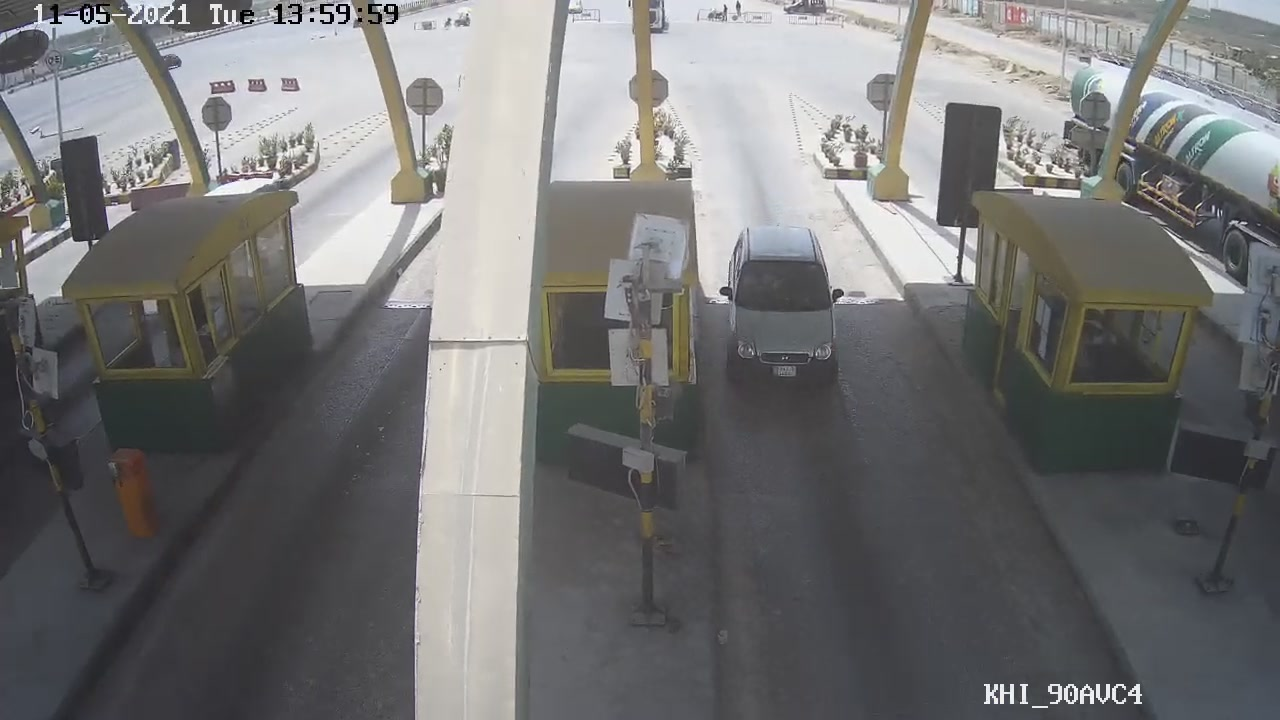F1: (712, 225, 852, 394)
